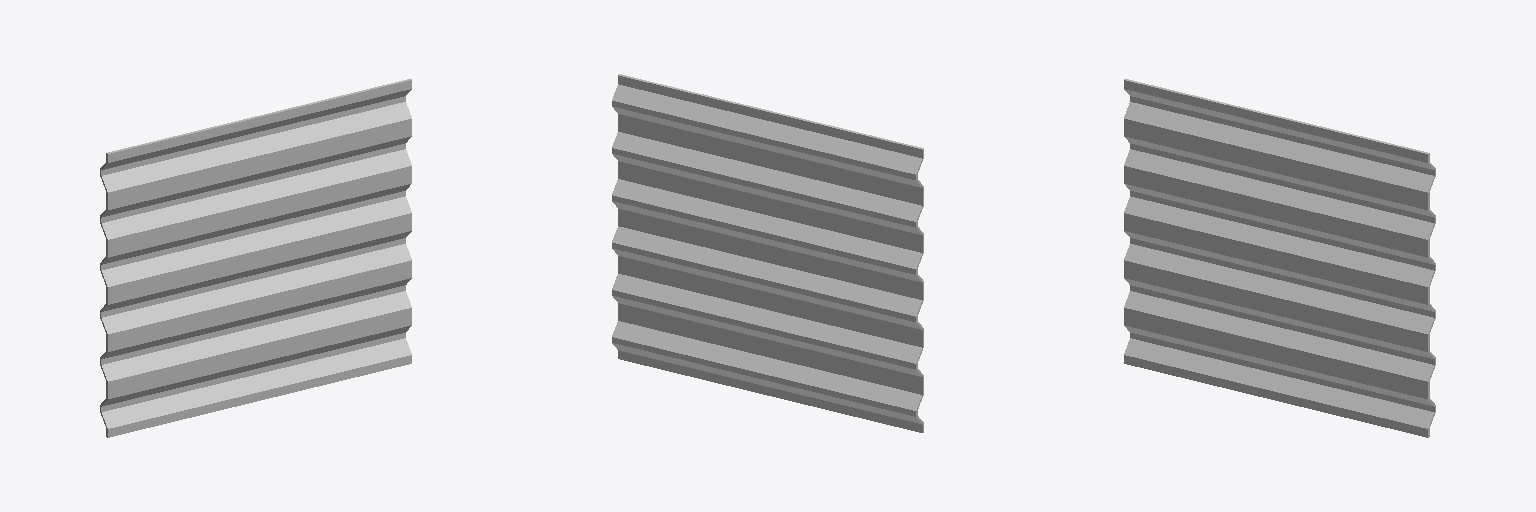
The model's file is thing.obj.
3 renders of one model, left to right at view 1: azimuth 30°, elevation 25°; view 2: azimuth 150°, elevation 25°; view 3: azimuth 330°, elevation 25°, orthographic.
Parts seen in each view (by area): view 1: Cube.002_Cube.003; view 2: Cube.002_Cube.003; view 3: Cube.002_Cube.003.
Part boxes in pixels (x1,y1,x2,y2): Cube.002_Cube.003: (100, 79, 411, 437); Cube.002_Cube.003: (612, 74, 923, 432); Cube.002_Cube.003: (1124, 79, 1435, 437).
Size of the model in its own units: 2.08 by 1.85 by 0.0948.